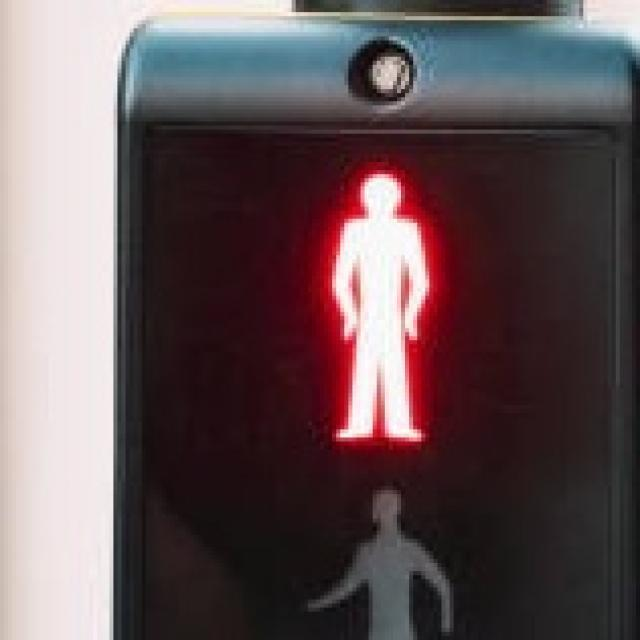red-crossing: (268, 146, 480, 458)
